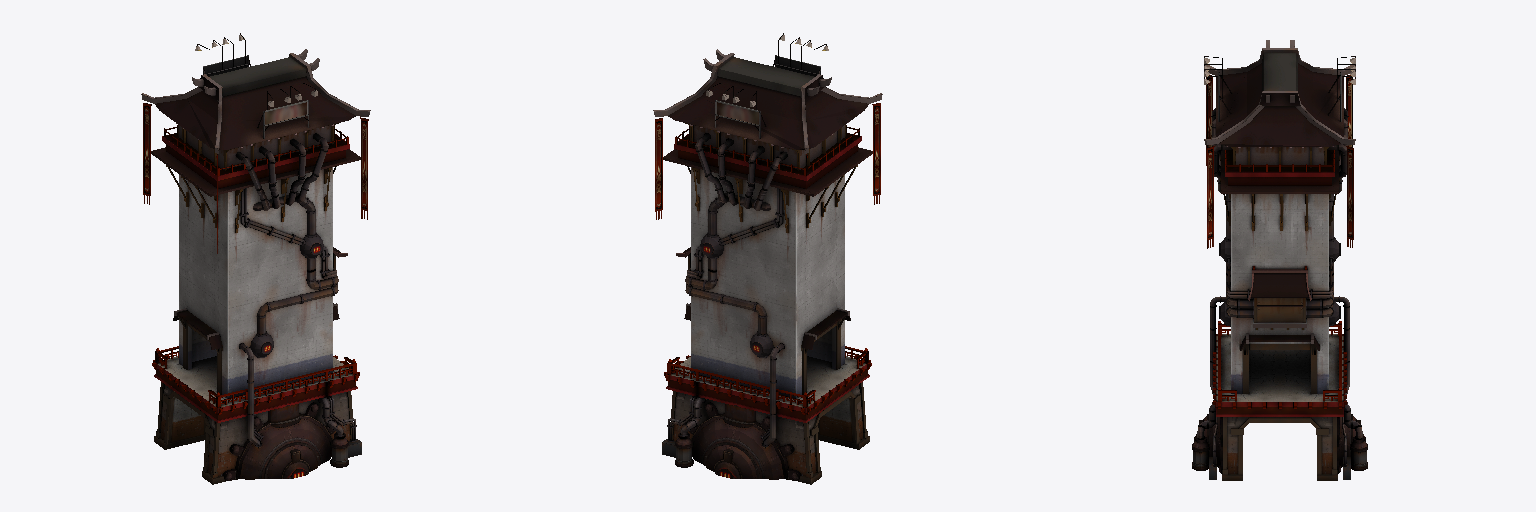
3 views of the same model, side by side, from view 1: azimuth 30°, elevation 25°; view 2: azimuth 150°, elevation 25°; view 3: azimuth 270°, elevation 25° (orthographic).
Parts seen in each view (by area): view 1: MiddleTower_Sm; view 2: MiddleTower_Sm; view 3: MiddleTower_Sm.
Boxes of the visible parts, x1,y1,x2,y2 form: MiddleTower_Sm: [141, 33, 370, 484]; MiddleTower_Sm: [653, 33, 882, 484]; MiddleTower_Sm: [1192, 40, 1367, 480].
Bounding box in the file's own units: 1472 × 3424 × 1442.
1 materials, 1 textured.